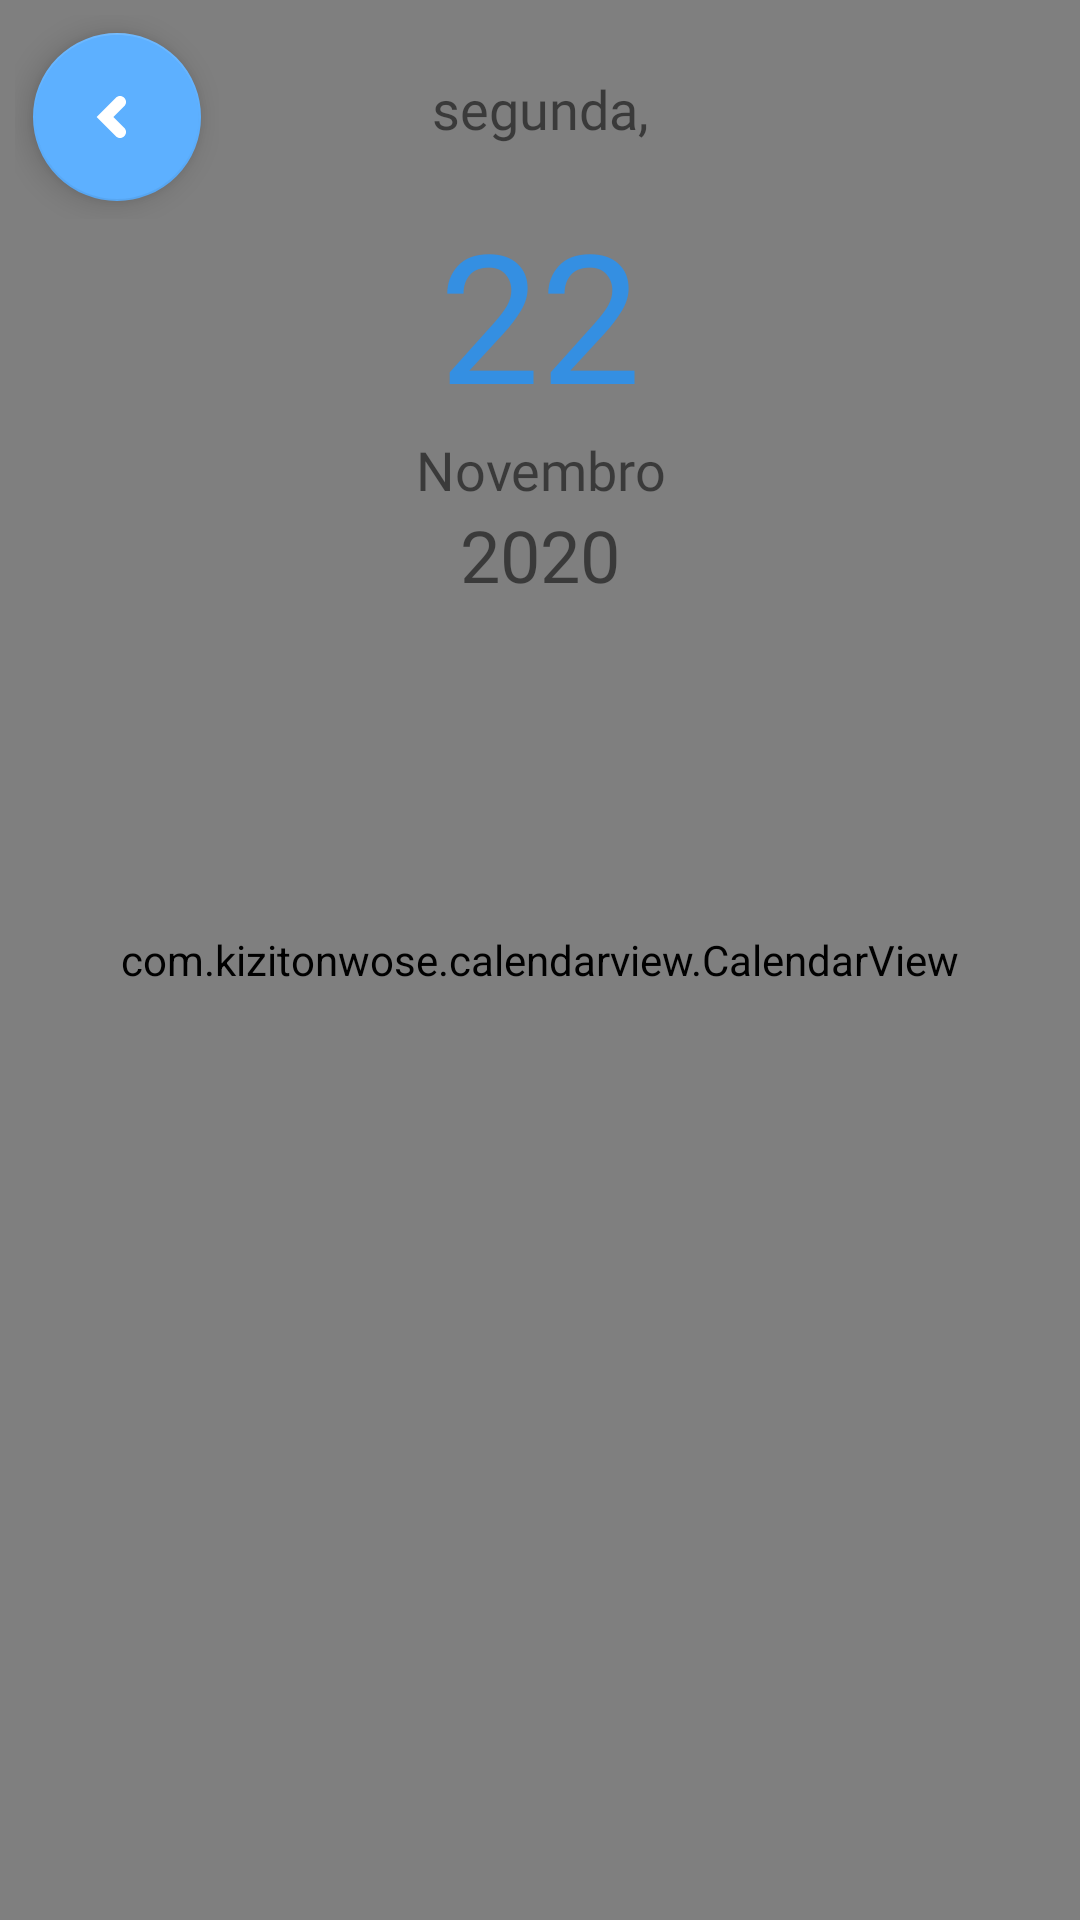

Screen size 1080×1920. Icon name, then its center in pixels as point (x, y):
Voltar: point (117, 117)
